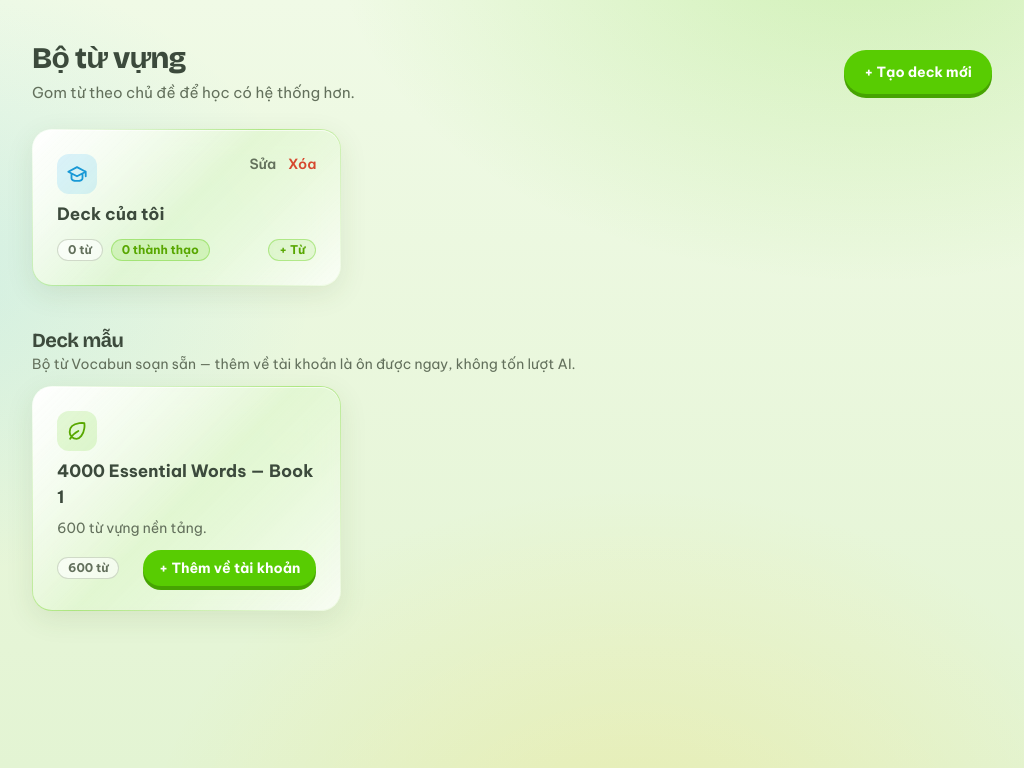
Test: starter section lists the system deck and cloning hides it
expect the heading "Deck mẫu" is shown: met, box [32, 328, 123, 352]
expect the text "4000 Essential Words — Book 1" is shown: met, box [57, 459, 316, 510]
Click the button "+ Thêm về tài khoản": (230, 568) [143, 550, 316, 586]
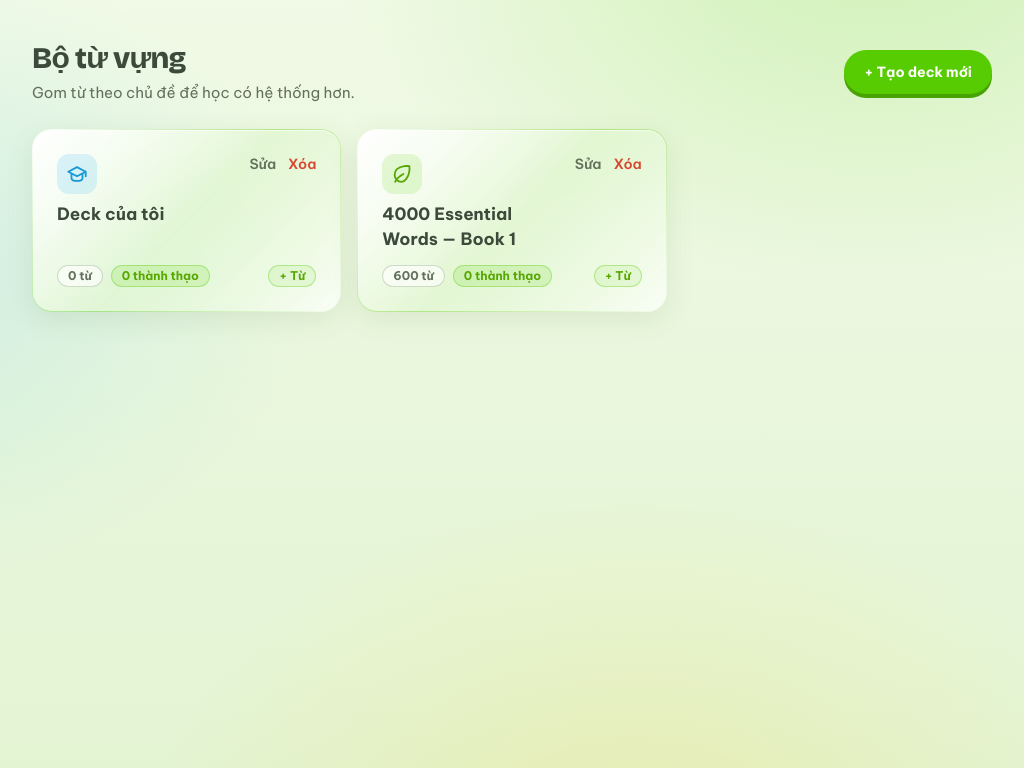
expect the heading "Deck mẫu" is gone: met
expect the text "4000 Essential Words — Book 1" is shown once: met, box [382, 202, 516, 250]
